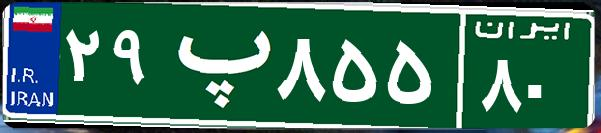0: (525, 38, 570, 115)
2: (57, 26, 110, 107)
5: (385, 28, 445, 110), (330, 28, 385, 110)
8: (273, 28, 330, 110), (475, 38, 525, 113)
9: (110, 28, 158, 105)
پ: (158, 15, 273, 115)
